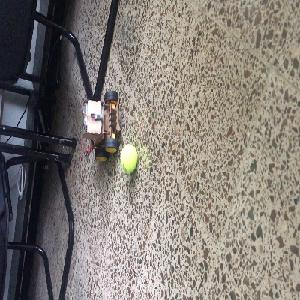Ball: (119, 144, 137, 173)
Robot: (81, 91, 118, 163)
